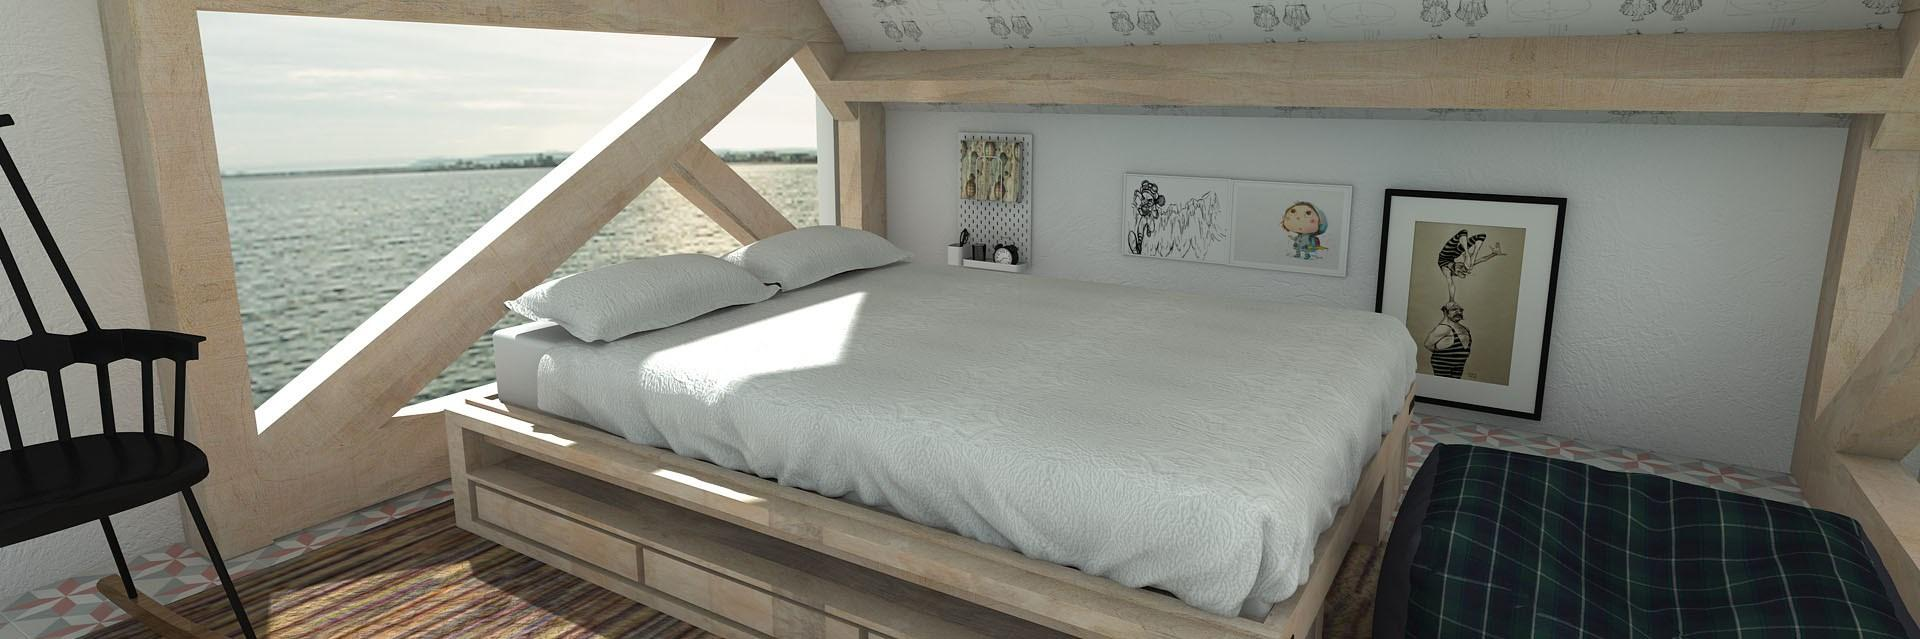bed: (516, 204, 1420, 639)
